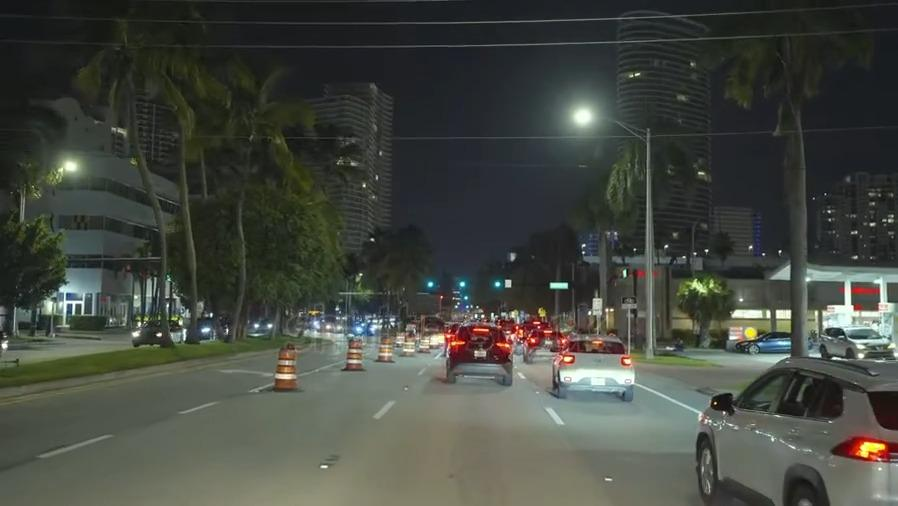car: (695, 354, 898, 506), (555, 333, 635, 399), (447, 321, 515, 387), (819, 323, 897, 362), (737, 326, 814, 357), (132, 315, 186, 345), (188, 315, 225, 343)
cone: (272, 344, 301, 393), (344, 335, 366, 373), (378, 334, 394, 363), (403, 334, 415, 357)
wheel: (694, 438, 721, 500)
